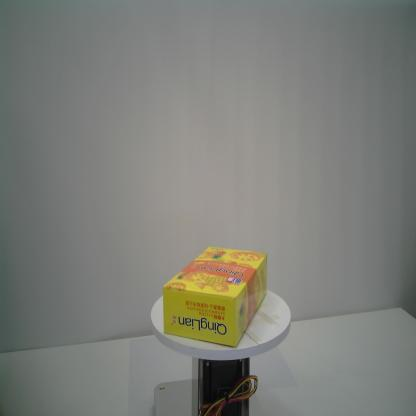Dessert: (163, 246, 267, 346)
